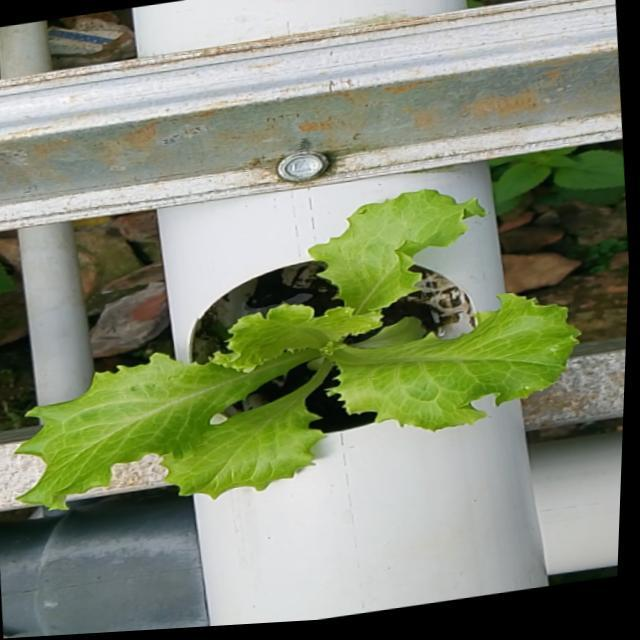Baby: (22, 184, 585, 502)
